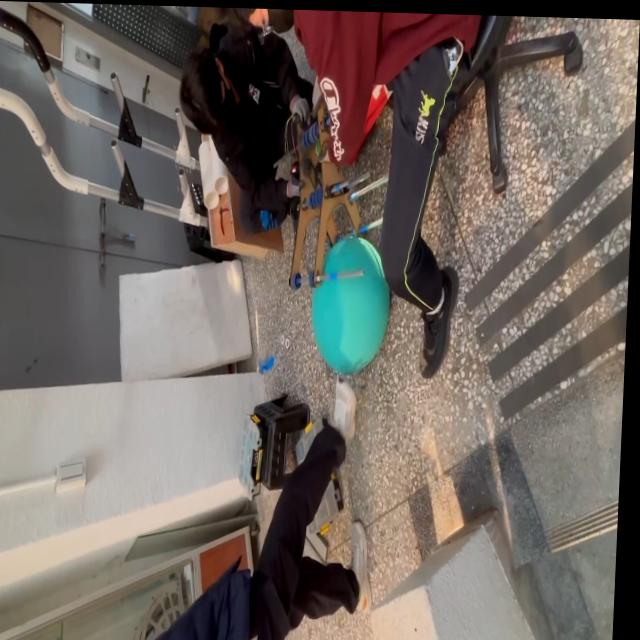ALGAE: (307, 233, 395, 378)
